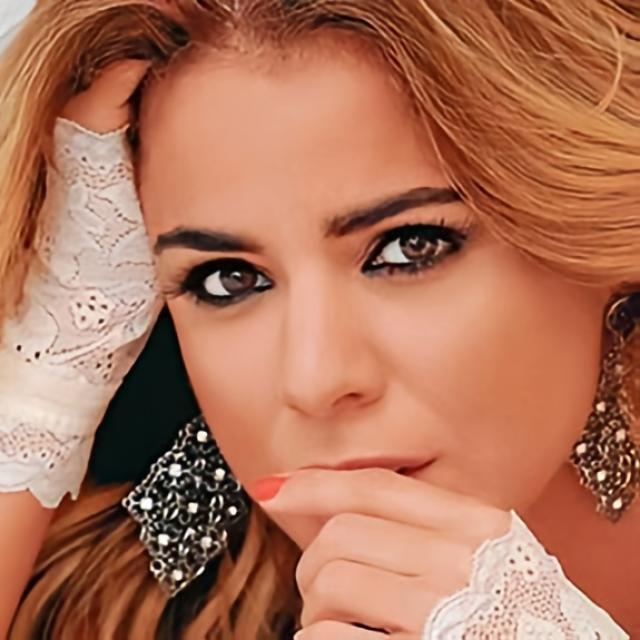neutral: (136, 0, 602, 562)
